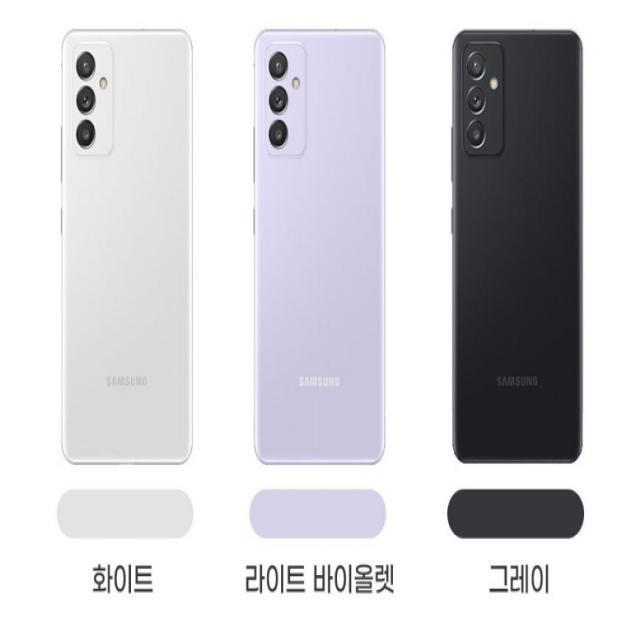phone: (448, 29, 582, 467), (254, 29, 386, 465), (61, 29, 192, 464)
